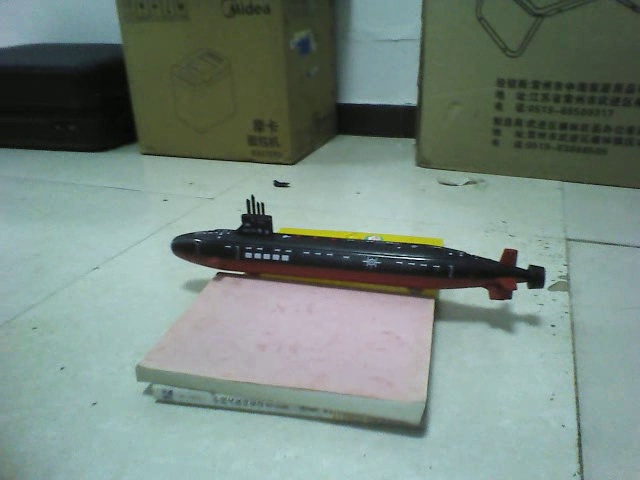submarine: (166, 192, 549, 310)
